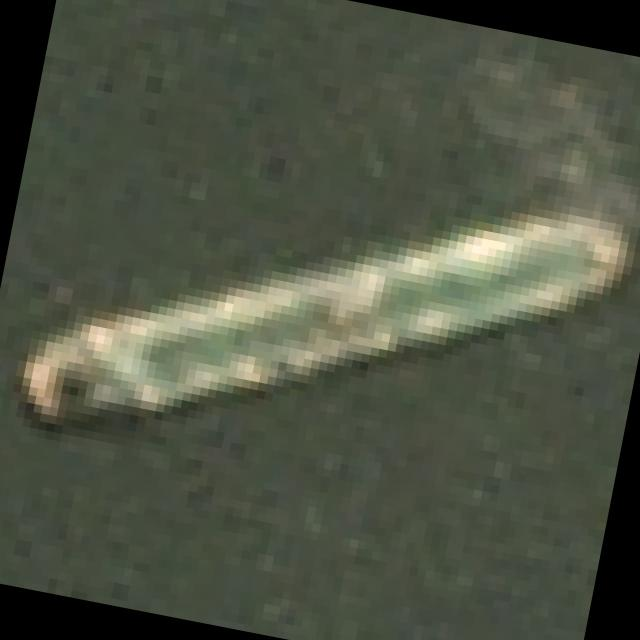ship: (16, 77, 640, 530)
